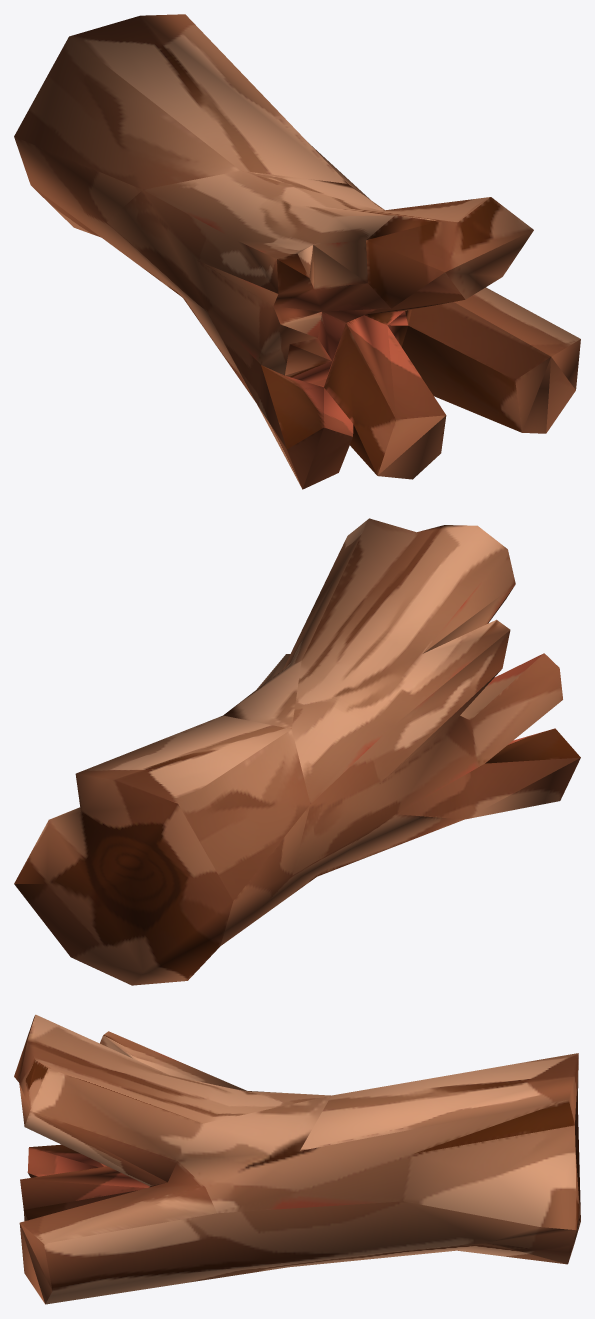
File: driftwood.glb
The picture shows the model from 3 angles, top to bottom: view 1: azimuth 30°, elevation 25°; view 2: azimuth 150°, elevation 25°; view 3: azimuth 270°, elevation 25°; orthographic projection. The views are drawn at different scales.
Parts seen in each view (by area): view 1: geometry_0; view 2: geometry_0; view 3: geometry_0.
Part boxes in pixels (<box>): geometry_0: <box>14,14,580,489</box>; geometry_0: <box>14,518,580,985</box>; geometry_0: <box>14,1014,580,1304</box>.
Bounding box in the file's own units: 0.5213 × 0.441 × 1.
Materials: 1 (1 with a texture image).
